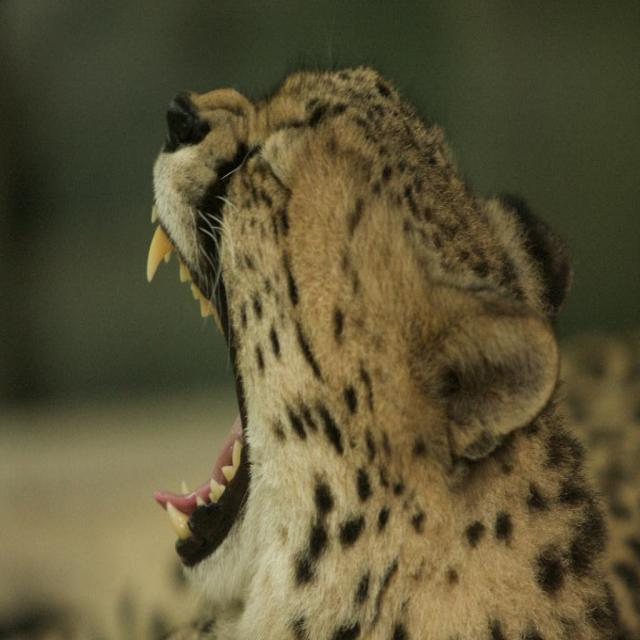Cheetah: (146, 61, 640, 640)
